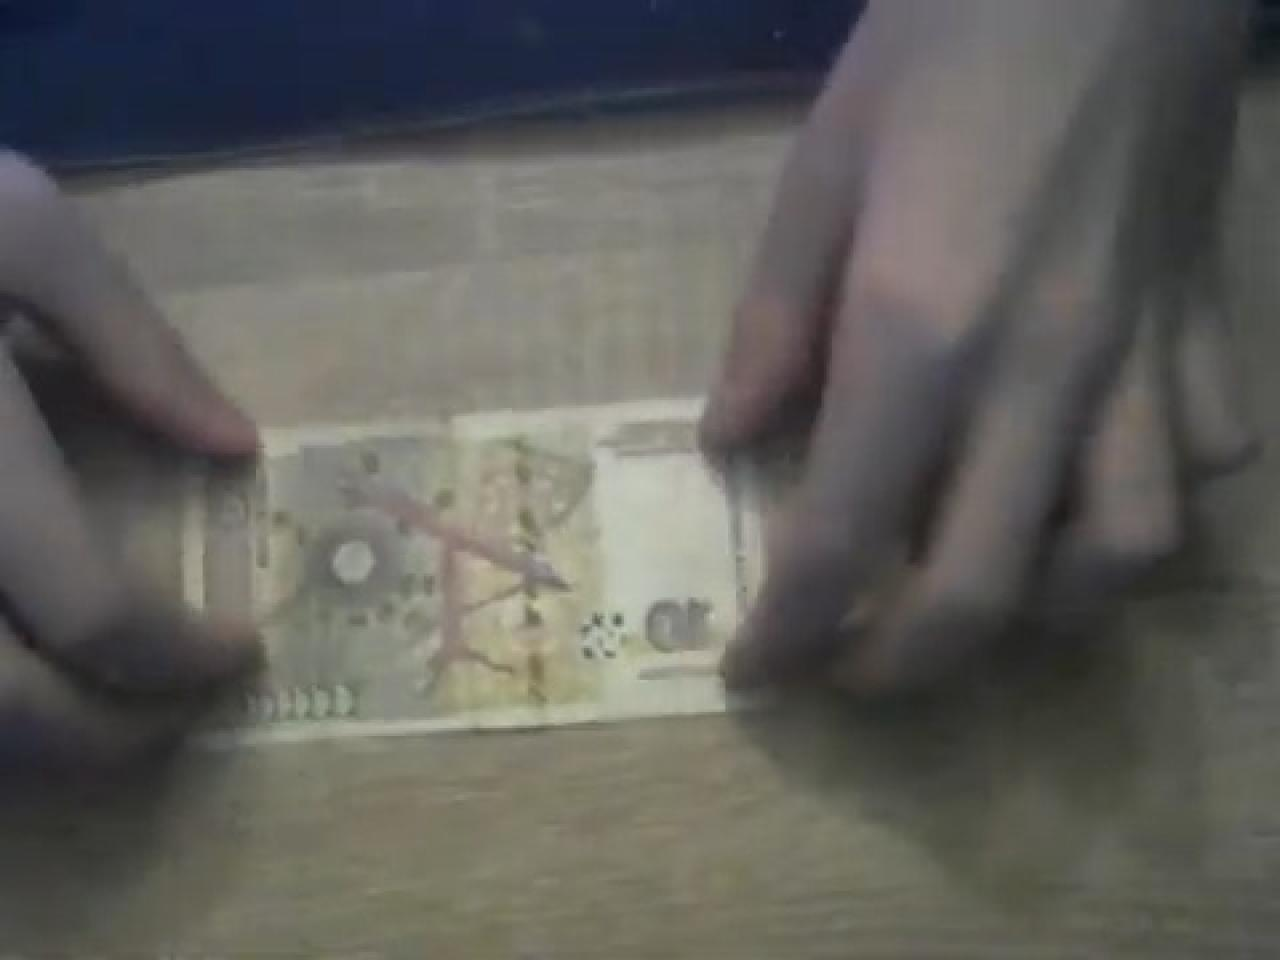10leva: (251, 376, 747, 739)
